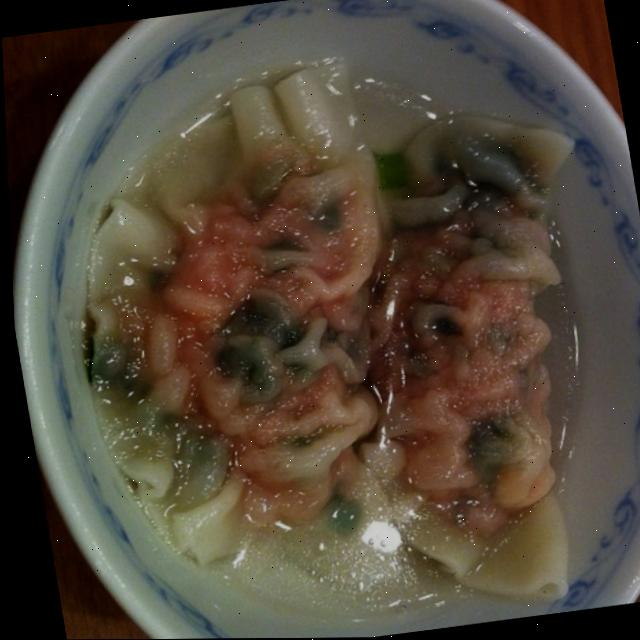带馅早点: (1, 0, 640, 640)
